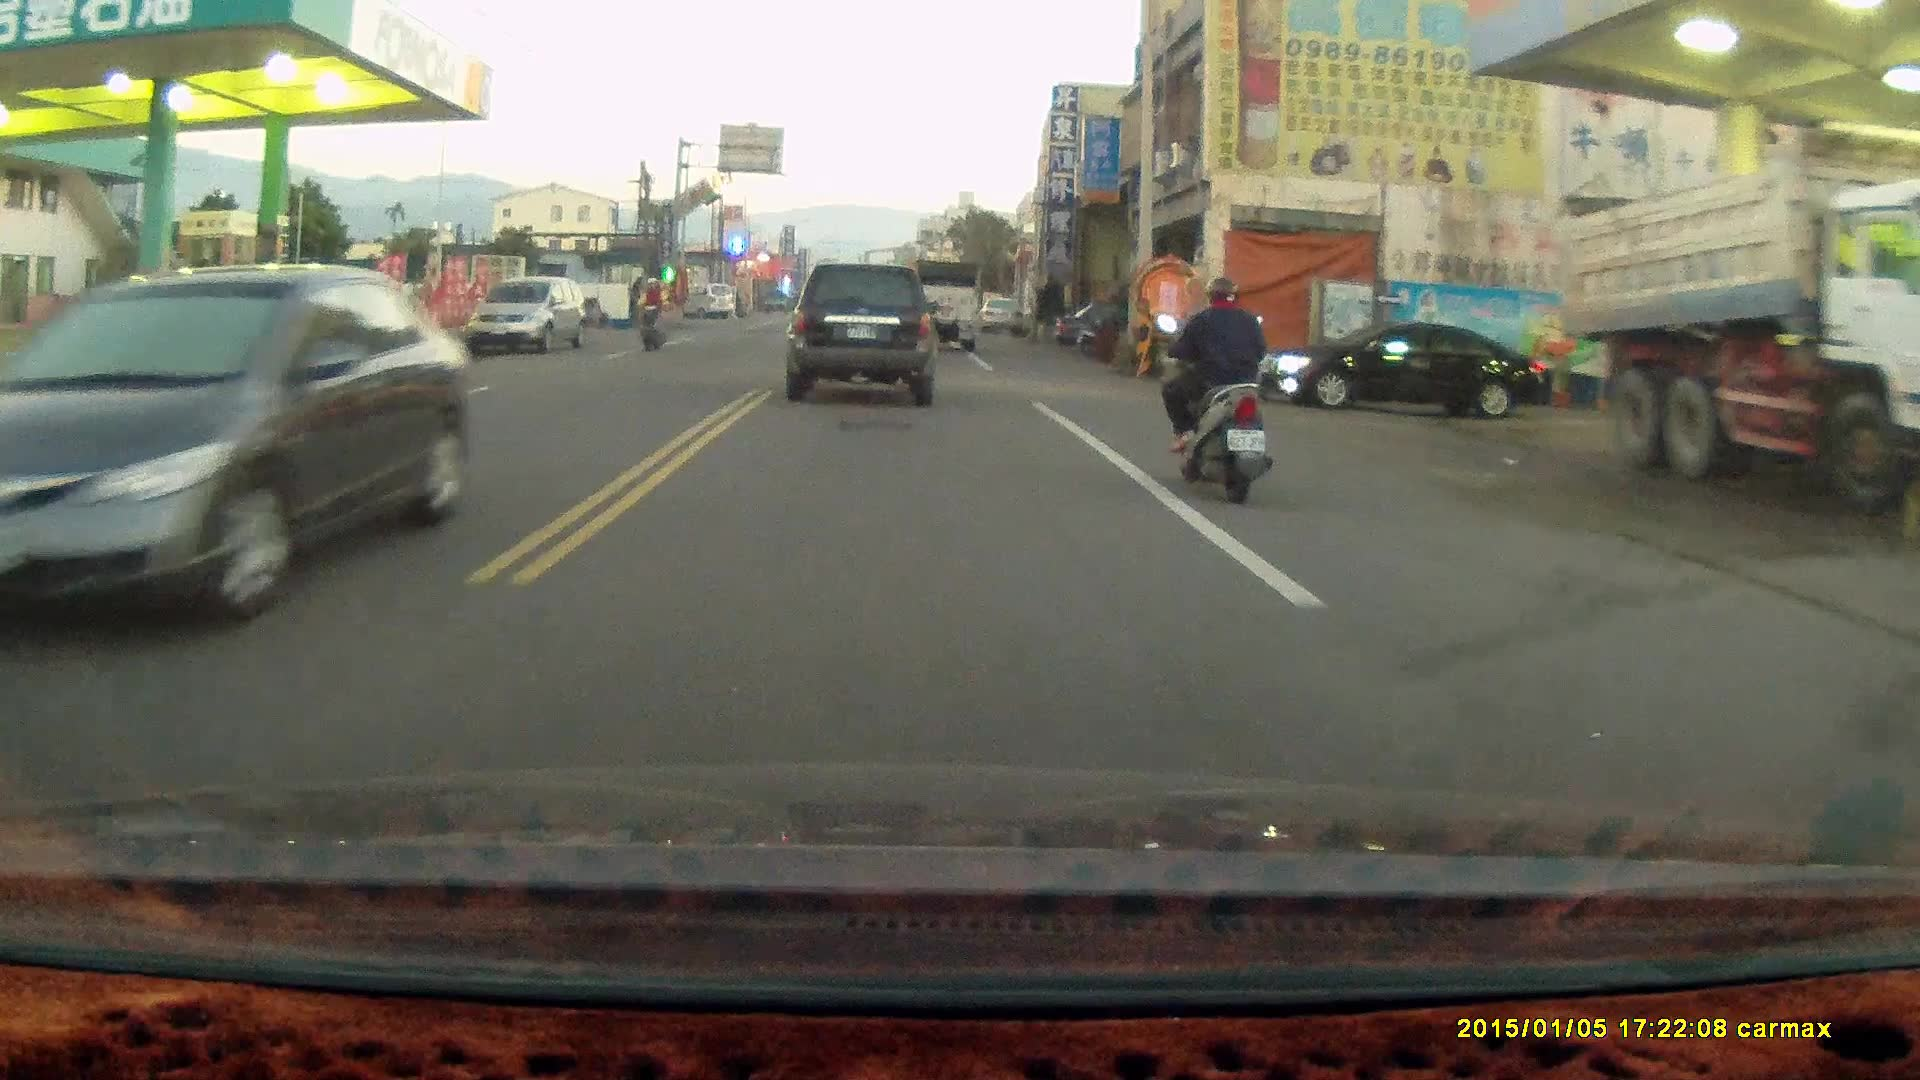rider: (1153, 275, 1271, 504), (630, 274, 666, 354)
vehicle: (1, 262, 492, 647), (1560, 127, 1920, 491), (1272, 323, 1559, 419), (790, 262, 939, 408), (467, 274, 586, 361), (909, 260, 982, 350)
